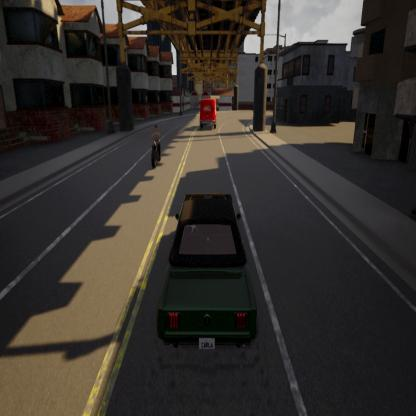Cars: (154, 171, 268, 372), (191, 85, 225, 145)
